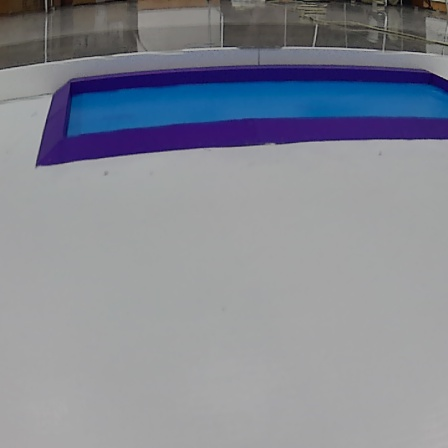blue_aim: (43, 60, 448, 178)
